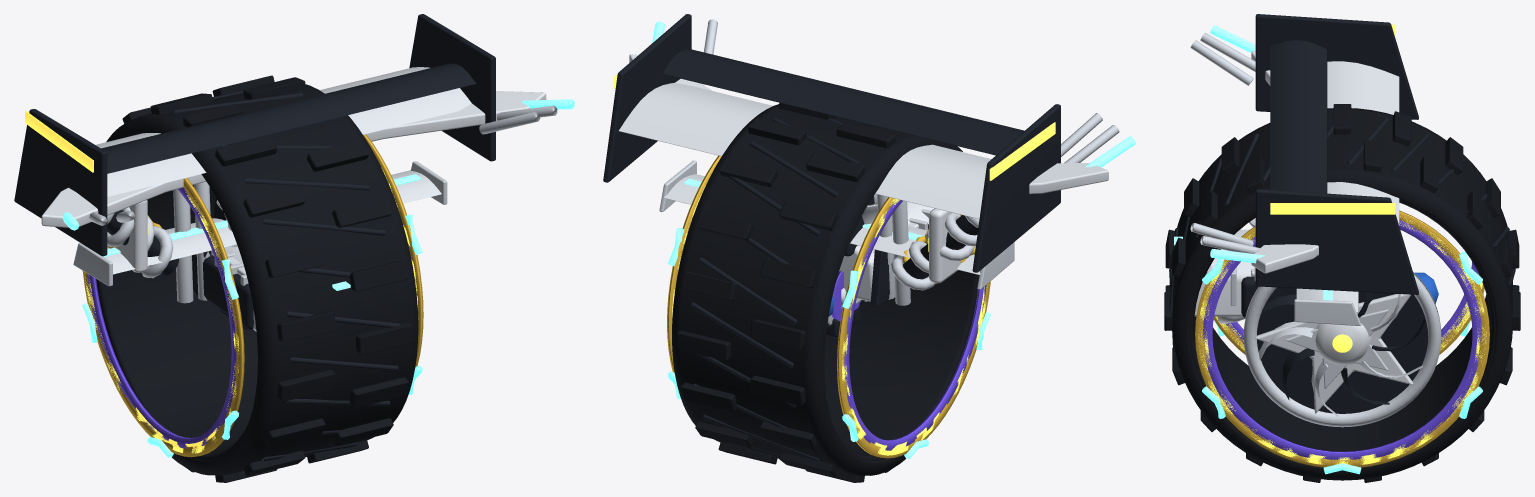
File: kart_parts.glb
3 renders of one model, left to right at view 1: azimuth 30°, elevation 25°; view 2: azimuth 150°, elevation 25°; view 3: azimuth 270°, elevation 25°, orthographic. The views are drawn at different scales.
Visible parts, largest first — view 1: GripSlick, KnobbyBase, BigFlap, BigEndplate_-1, BigMain, BigEndplate_1, GripStripe_-1, DriftRing_-1, GlideWing_-1, GlideWing_1, FlatMain, SprintBlock (+30 smaller); view 2: GripSlick, KnobbyBase, BigMain, BigFlap, BigEndplate_-1, BigEndplate_1, DriftRing_-1, GripStripe_-1, HeavyCoil_0, FlatMain, GlideWing_-1, HeavyGuard (+28 smaller); view 3: GripSlick, BigEndplate_1, KnobbyBase, BigFlap, StarBackDisc, BigEndplate_-1, DriftRing_1, TurbineRing, GripStripe_1, BigMain, StarPlate, KnobbyRing_1 (+32 smaller).
Boxes of the visible parts, x1,y1,x2,y2 form: GripSlick: [106, 84, 418, 475]; KnobbyBase: [96, 185, 257, 459]; BigFlap: [101, 63, 476, 173]; BigEndplate_-1: [14, 109, 107, 256]; BigMain: [96, 67, 471, 196]; BigEndplate_1: [409, 14, 495, 161]; GripStripe_-1: [82, 178, 244, 457]; DriftRing_-1: [87, 187, 236, 448]; GlideWing_-1: [41, 174, 206, 227]; GlideWing_1: [363, 91, 546, 141]; FlatMain: [103, 170, 441, 274]; SprintBlock: [194, 254, 253, 329]; GripSlick: [672, 104, 962, 475]; KnobbyBase: [824, 270, 979, 461]; BigMain: [619, 83, 991, 219]; BigFlap: [662, 49, 1024, 155]; BigEndplate_-1: [972, 104, 1060, 272]; BigEndplate_1: [603, 14, 691, 182]; DriftRing_-1: [844, 200, 986, 450]; GripStripe_-1: [837, 197, 990, 458]; HeavyCoil_0: [891, 213, 979, 290]; FlatMain: [663, 174, 980, 274]; GlideWing_-1: [1029, 163, 1108, 193]; HeavyGuard: [929, 208, 961, 283]; GripSlick: [1172, 108, 1512, 480]; BigEndplate_1: [1255, 189, 1418, 294]; KnobbyBase: [1189, 199, 1495, 451]; BigFlap: [1270, 40, 1327, 193]; StarBackDisc: [1257, 287, 1428, 413]; BigEndplate_-1: [1255, 14, 1418, 119]; DriftRing_1: [1202, 220, 1482, 461]; TurbineRing: [1243, 272, 1441, 427]; GripStripe_1: [1195, 210, 1489, 467]; BigMain: [1327, 61, 1399, 225]; StarPlate: [1255, 294, 1413, 413]; KnobbyRing_1: [1198, 216, 1486, 464].
Size of the model in its own units: 1.12 by 0.8093 by 0.7391.
